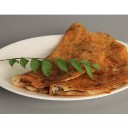dosa: (11, 22, 128, 90)
